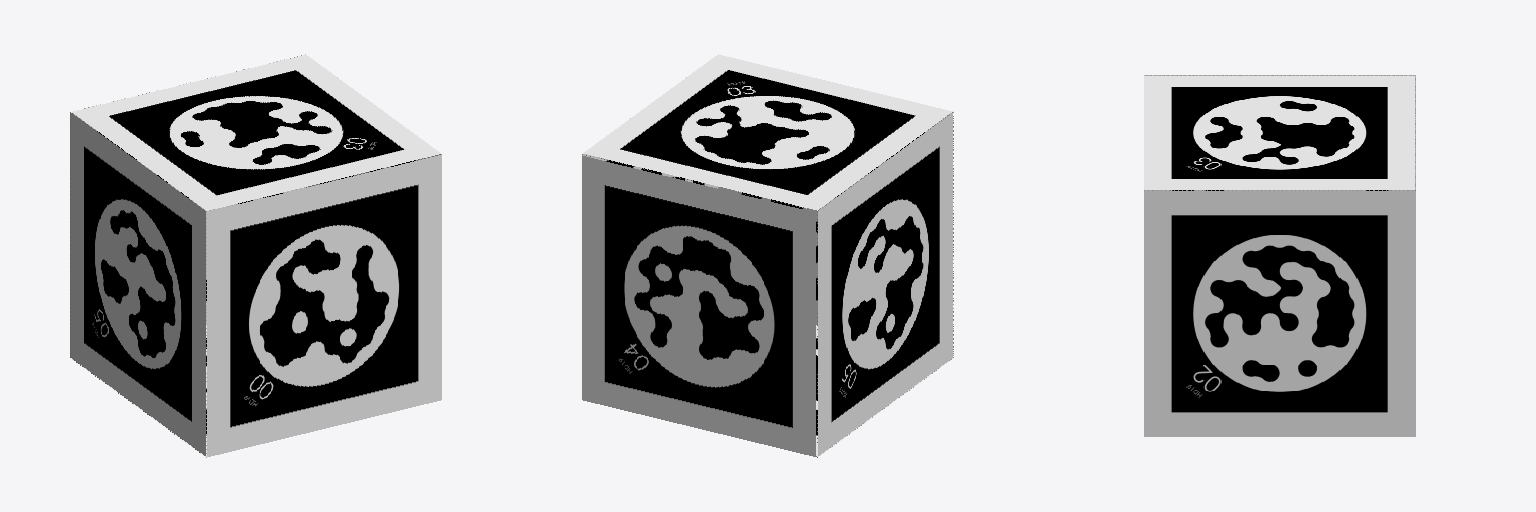
The picture shows the model from 3 angles: view 1: azimuth 30°, elevation 25°; view 2: azimuth 150°, elevation 25°; view 3: azimuth 270°, elevation 25°; orthographic projection.
Visible parts, largest first — view 1: Cube; view 2: Cube; view 3: Cube.
Part boxes in pixels (x1,y1,x2,y2): Cube: (70,54,441,457); Cube: (582,54,953,457); Cube: (1144,75,1415,436).
Bounding box in the file's own units: 0.065 × 0.065 × 0.065.
Materials: 1 (1 with a texture image).